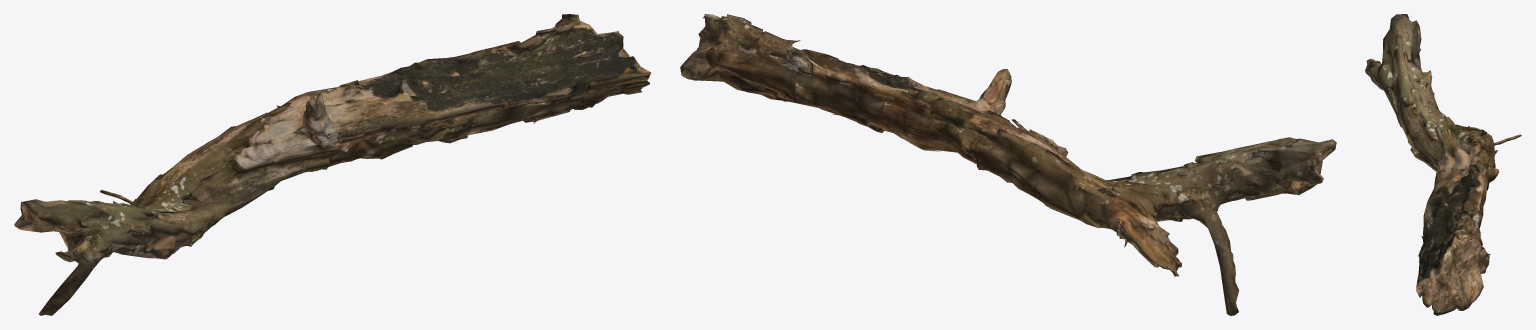
The model's file is dead_tree_trunk_02_lod1.glb.
The picture shows the model from 3 angles, left to right: view 1: azimuth 30°, elevation 25°; view 2: azimuth 150°, elevation 25°; view 3: azimuth 270°, elevation 25°; orthographic projection. The views are drawn at different scales.
Visible parts, largest first — view 1: dead_tree_trunk_02; view 2: dead_tree_trunk_02; view 3: dead_tree_trunk_02.
Part boxes in pixels (bbox=[...]): dead_tree_trunk_02: bbox=[14, 14, 651, 315]; dead_tree_trunk_02: bbox=[680, 14, 1336, 315]; dead_tree_trunk_02: bbox=[1365, 14, 1521, 315].
Size of the model in its own units: 4.05 by 1.05 by 1.05.
1 material, 1 textured.
